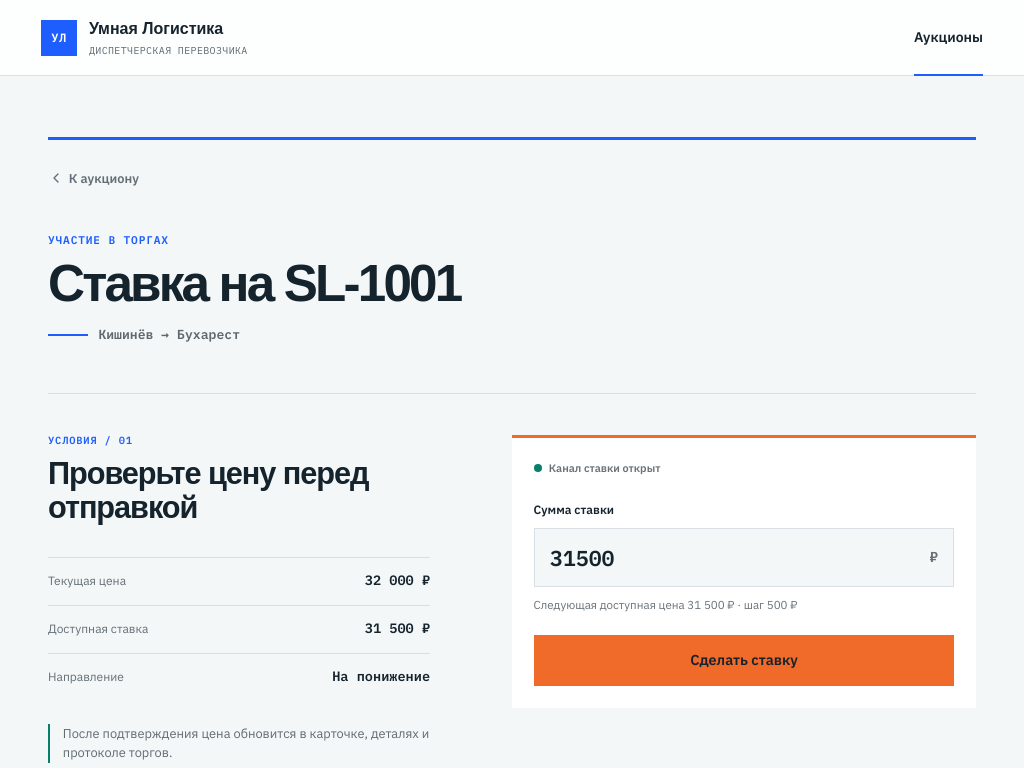
it: auction place-bid feature › keeps input and cached state unchanged after a real server 403
Replace the text in the field labelled "Сумма ставки" with "31000" at coordinates (732, 558), box [535, 529, 930, 586]
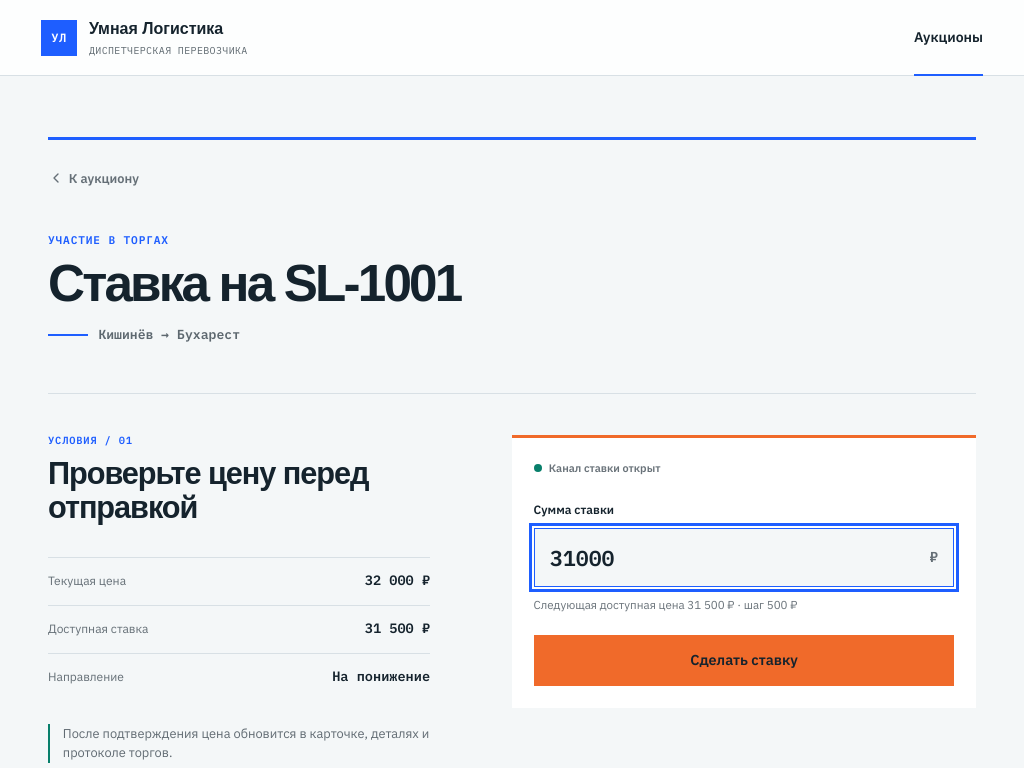
Click the button "Сделать ставку" at coordinates (744, 660), box [534, 635, 954, 686]
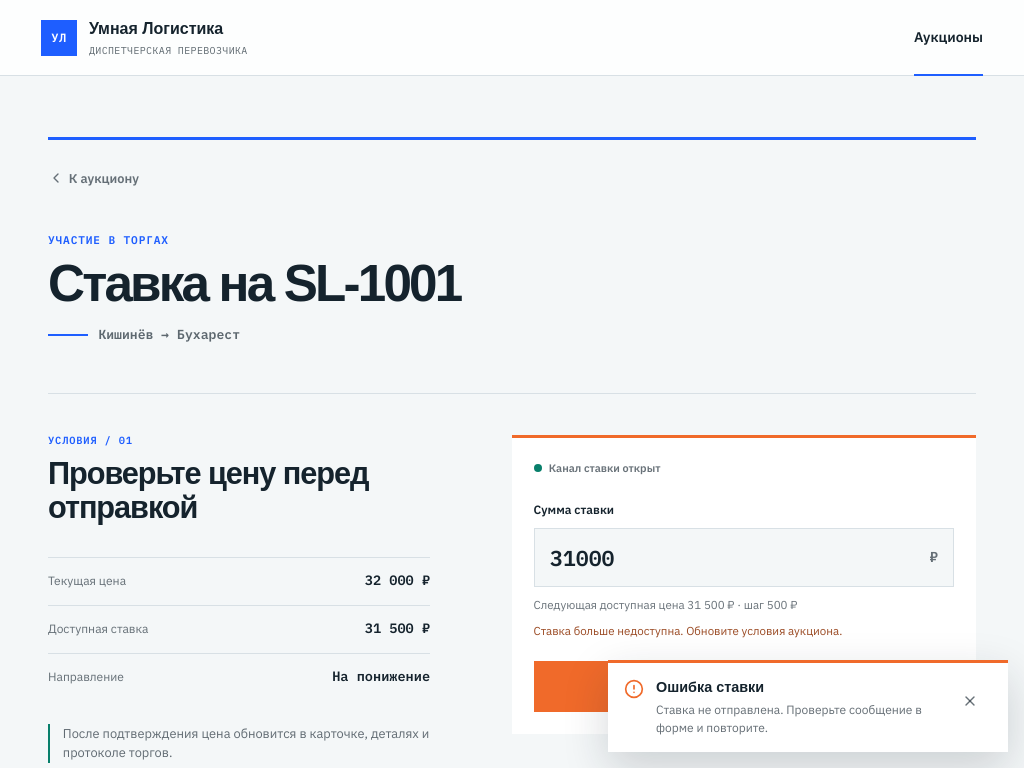
Now the text "Ставка больше недоступна. Обновите условия аукциона." is shown, box [534, 623, 842, 638]
